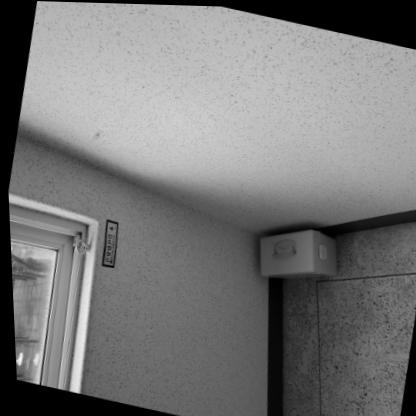DDL: (248, 217, 343, 292)
